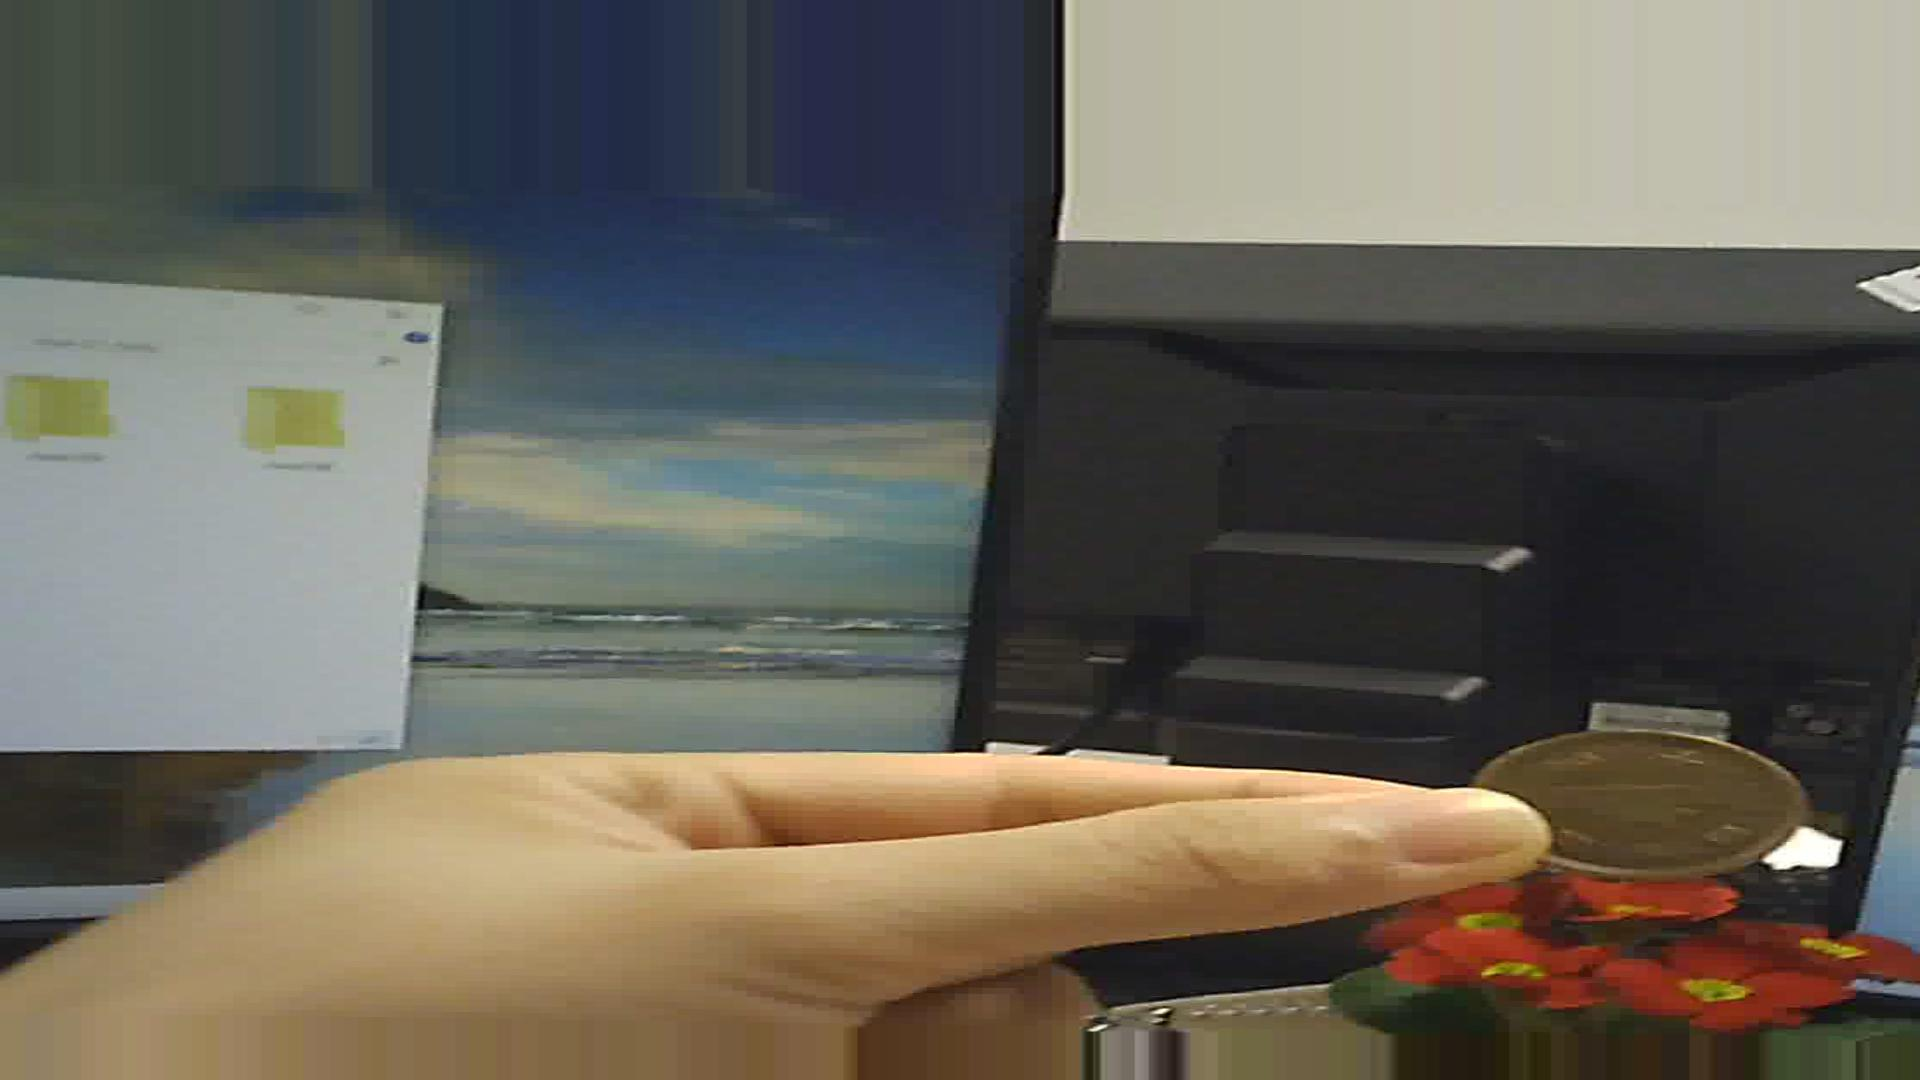10 Yen: (1474, 723, 1818, 886)
